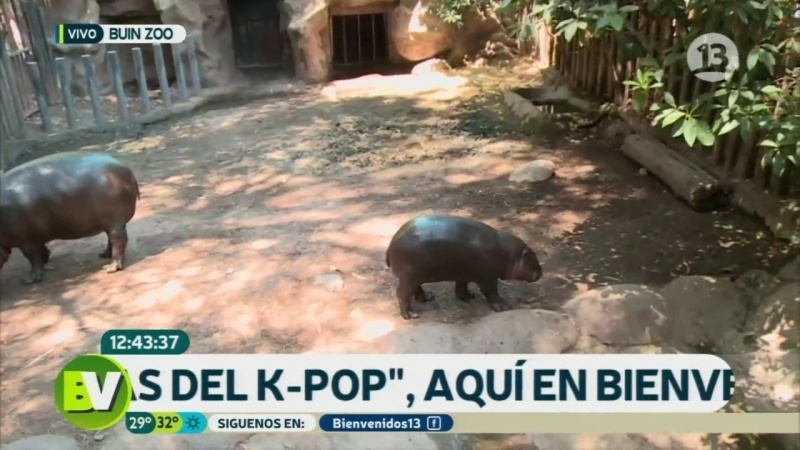hipopotamo: (356, 194, 568, 329), (1, 145, 150, 289)
